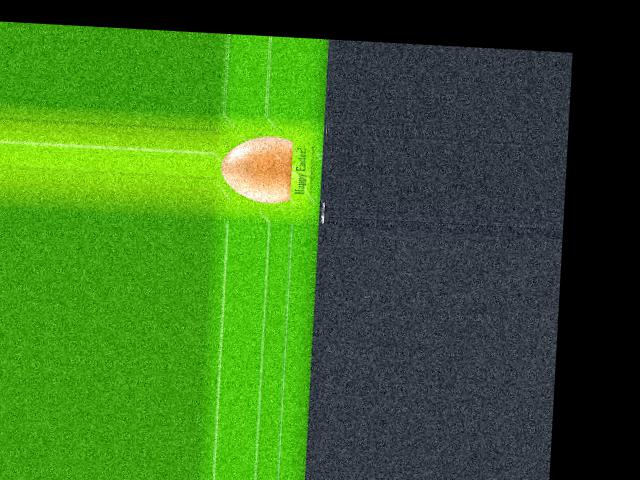egg: (219, 133, 293, 203)
